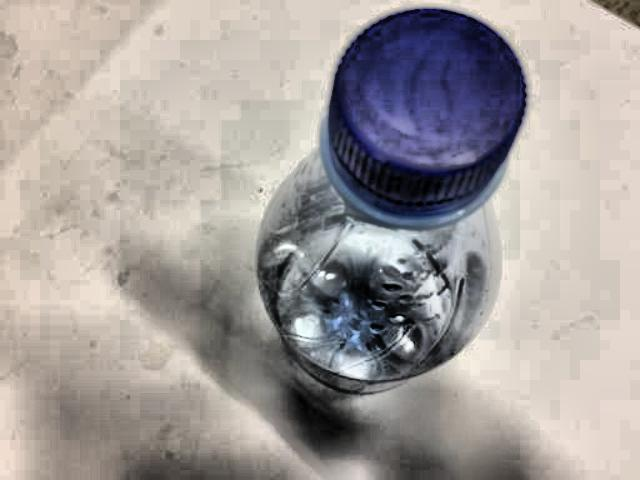Bottles: (241, 3, 547, 416)
